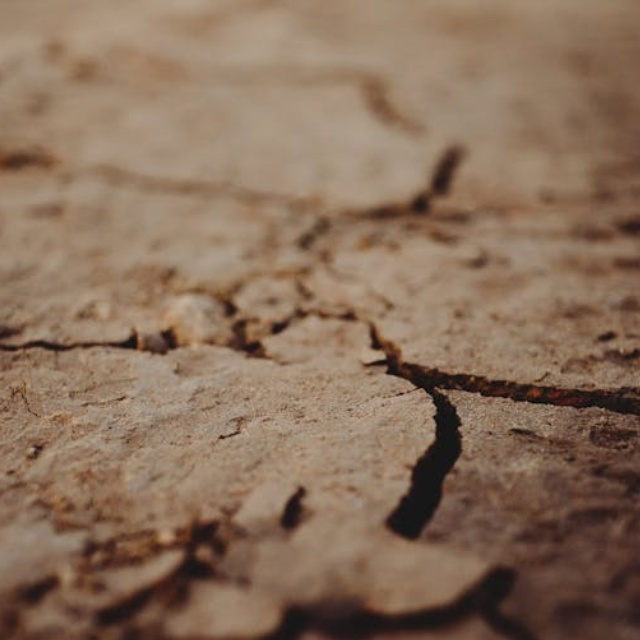细微裂纹: (283, 304, 640, 554), (0, 281, 385, 379)
